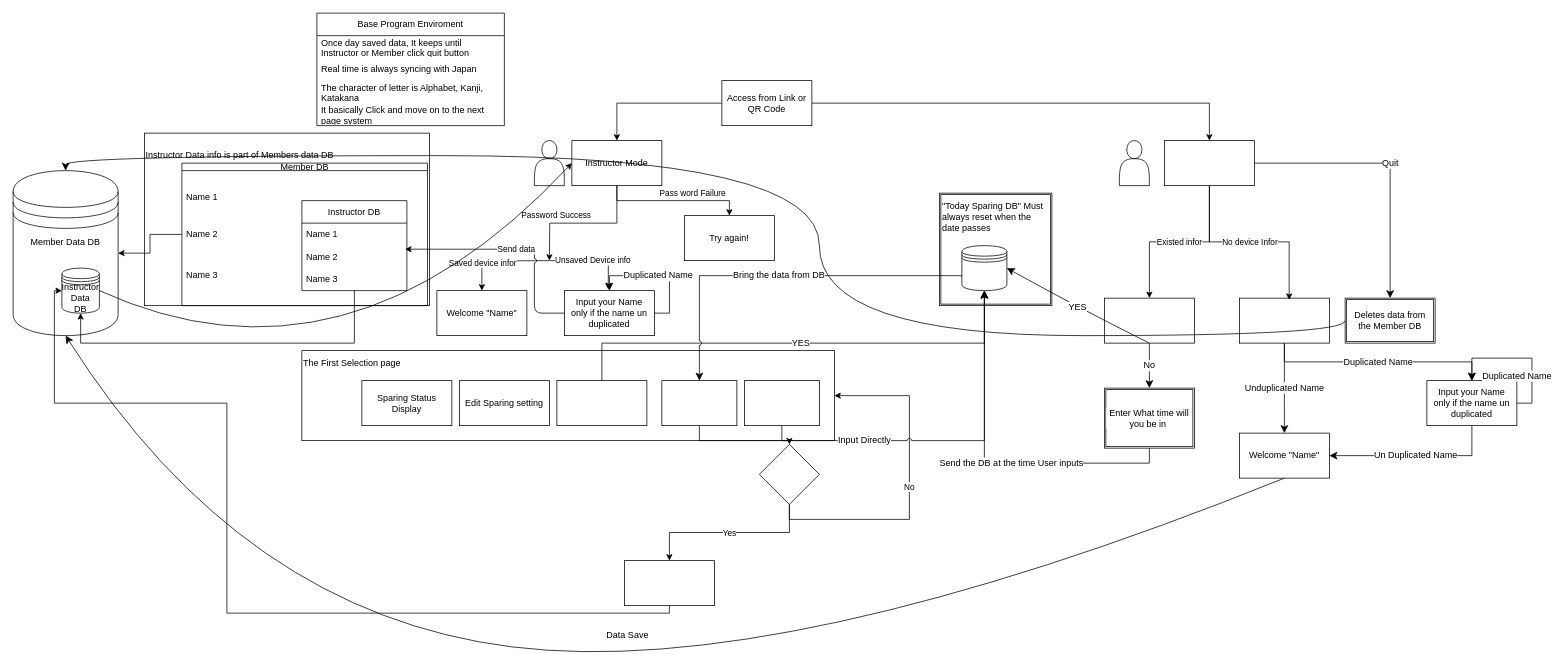
This 1565x665 diagram has some shape labels left out. The shapes that lost their labels are listed below. From the top down, each one's centre as x and y in pixels, then its label:
At (1209,163): "Member".
At (984,268): "Today Sparring DB".
At (1149,320): "Welcome Join the Spar on time?".
At (1284,320): "Please register".
At (601,403): "Join the Sparing".
At (699,403): "Sparring members".
At (781,403): "Quit the cave".
At (789,474): "Are u sure?".
At (669,583): "Delete the Infor from the Instructor DB".
